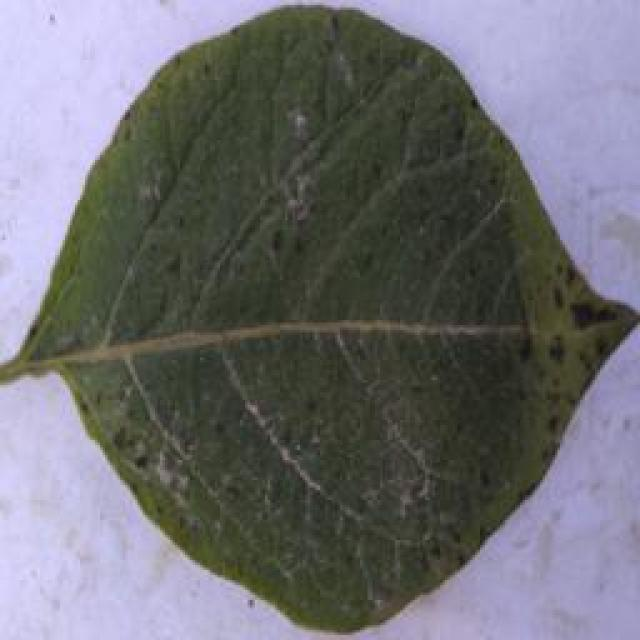Potato_Early_Blight: (35, 4, 640, 640)
